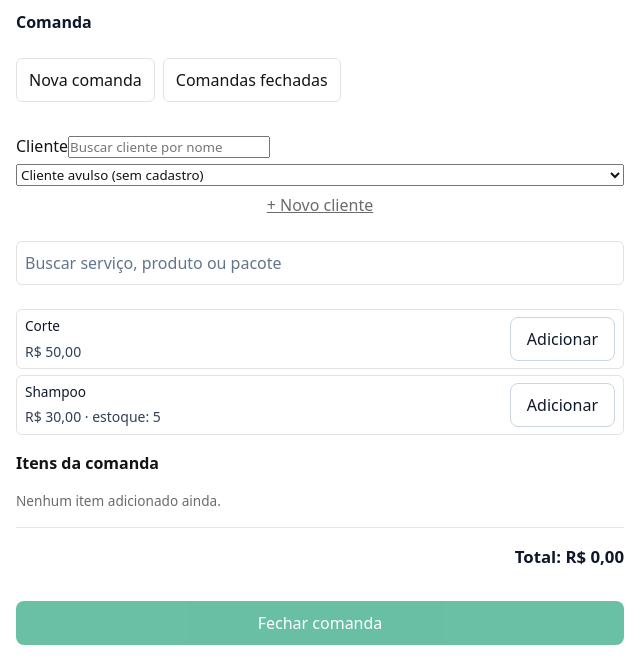
Test: ComandaPage › hides the estornar action for reception (order_refund never included that role)
Check: the text "Corte" is shown, box [25, 316, 60, 335]
Click the button "Comandas fechadas" at (252,80), box [163, 58, 341, 102]
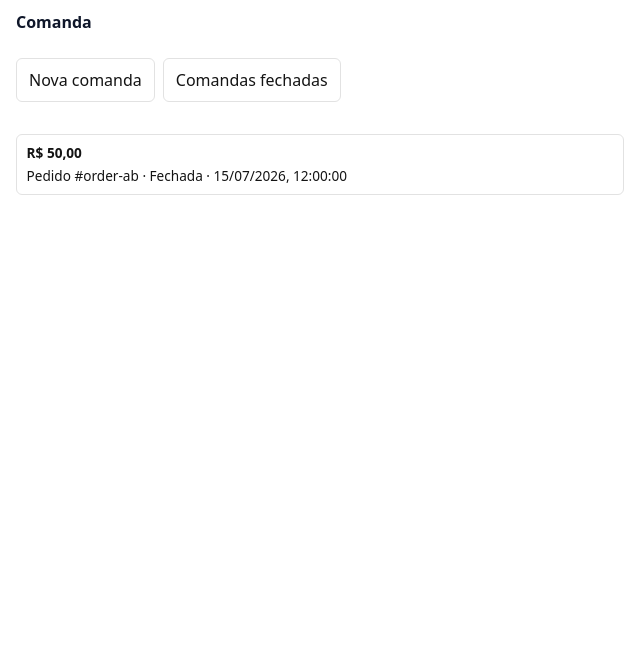
Check: the text "Pedido #order-ab · Fechada · 15/07/2026, 12:00:00" is shown, box [27, 166, 347, 185]
